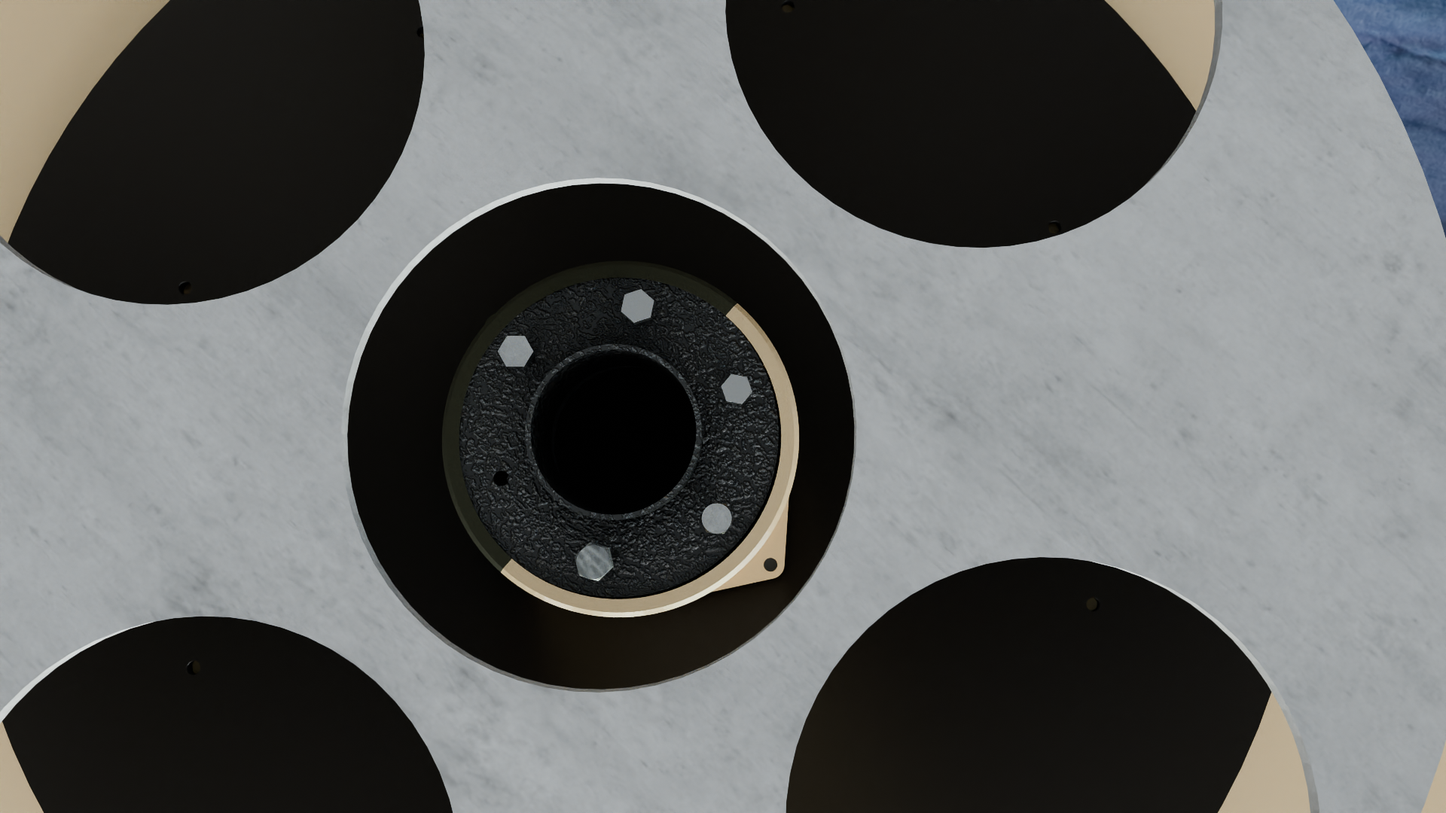bolt: (575, 543, 612, 581), (621, 289, 654, 323), (498, 336, 533, 367), (700, 503, 734, 534), (721, 374, 752, 404)
